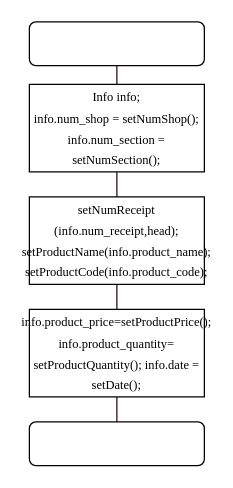
Some shapes in this 233 by 488 pixel diagram are drawn without their labels. The shapes that lost their labels are listed below. From the top down, each one's centre as x and y in pixels, then its label:
At point (116, 43): "НАЧАЛО setInfo".
At point (116, 443): "КОНЕЦ setInfo вернуть info;".
